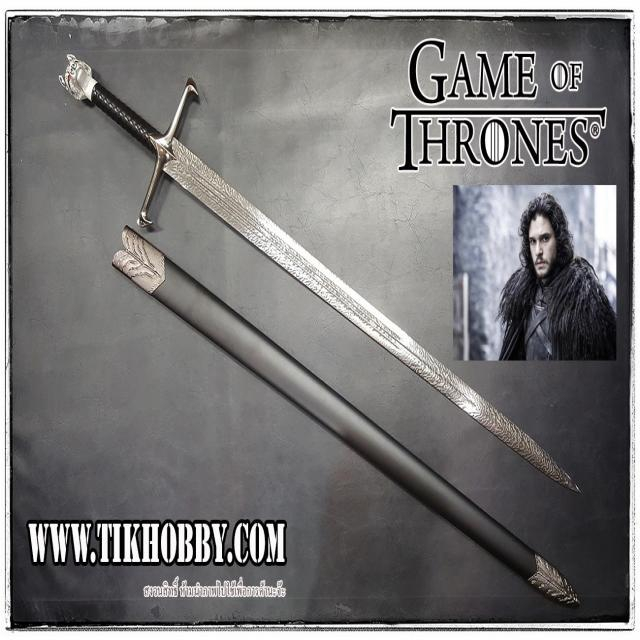long sword: (57, 44, 588, 500)
